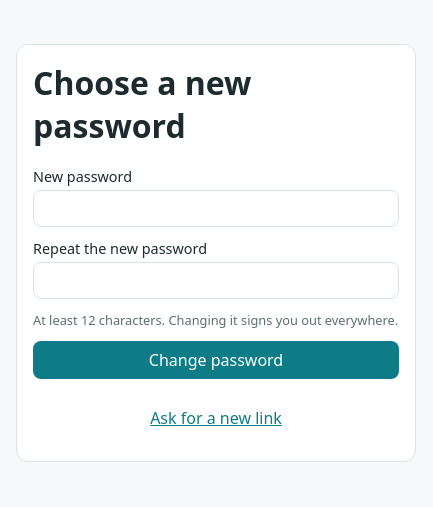
Test: ResetPasswordPage › shows the server's message when the link is invalid or expired
The width and height of the screenshot is (433, 507).
Type "Brand-New-Passw0rd-1" into the password field labelled "New password". click: (216, 208)
box: [33,190,399,227]
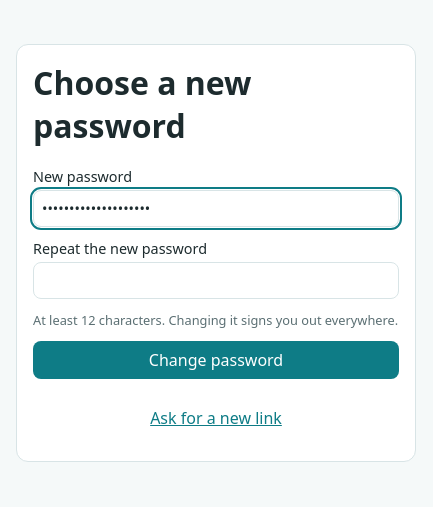
Type "Brand-New-Passw0rd-1" into the password field labelled "Repeat the new password". click: (216, 280)
box: [33,262,399,299]
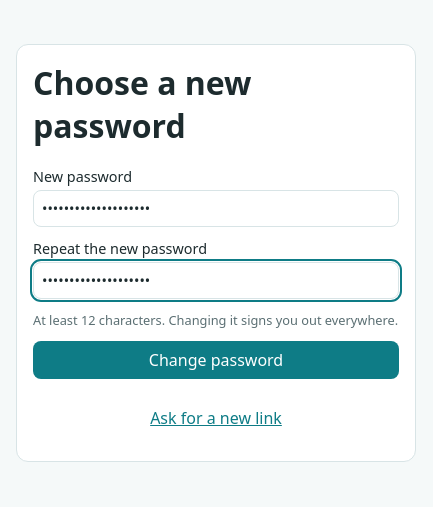
Click the button "Change password". click: click(216, 360)
box: [33,341,399,379]
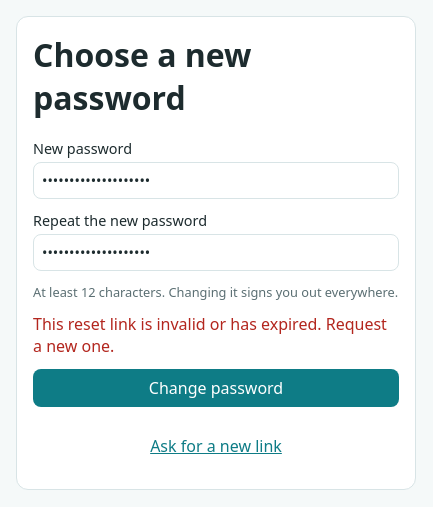
Expected: the message shows "invalid or has expired", [33,313,387,357]
